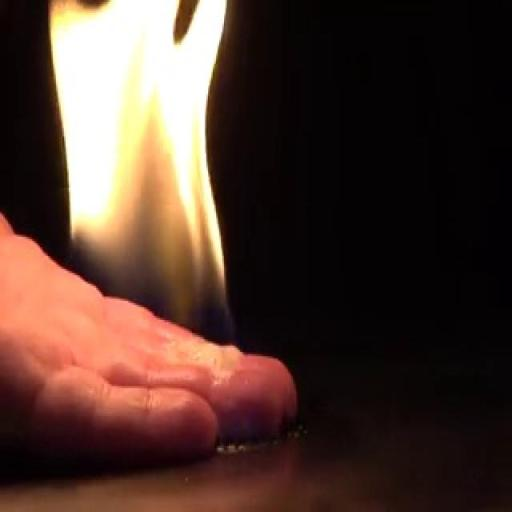smoke: (94, 36, 230, 344)
